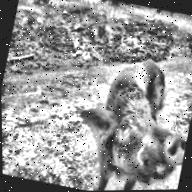boar: (77, 43, 192, 191)
